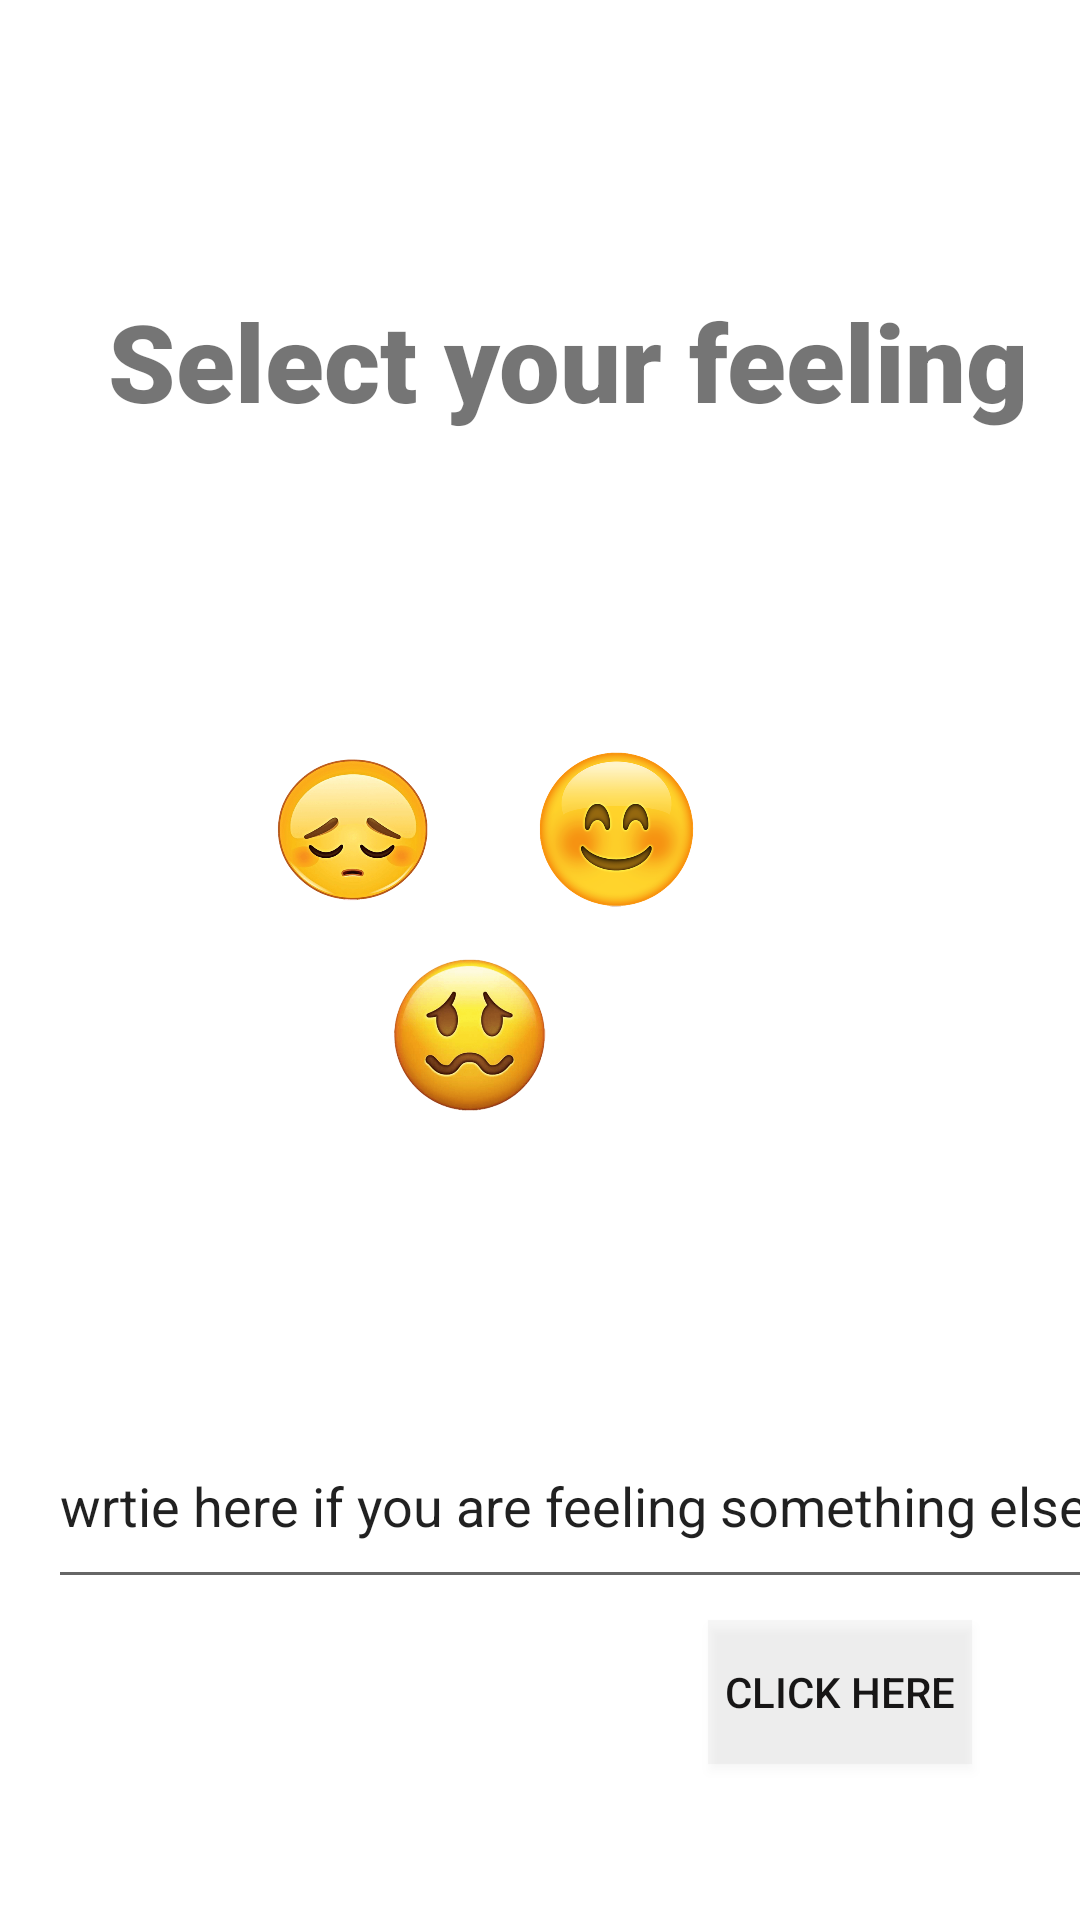

Icon bounding boxes for this 1080px x 1920px phone screenshot, format (x1, y1, x2, y2):
anxious: (394, 959, 546, 1111)
happybtn: (540, 752, 693, 907)
sademoji: (278, 759, 428, 900)
